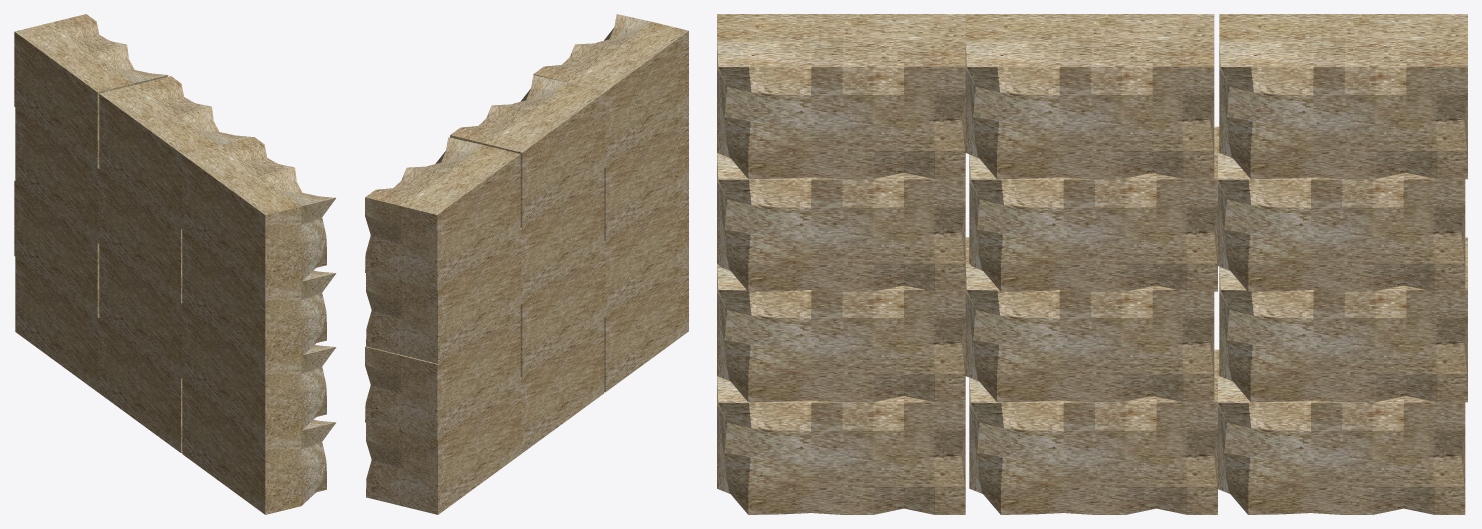
File: Bricks.fbx
The picture shows the model from 3 angles, left to right: view 1: azimuth 30°, elevation 25°; view 2: azimuth 150°, elevation 25°; view 3: azimuth 270°, elevation 25°; orthographic projection. The views are drawn at different scales.
Visible parts, largest first — view 1: Cube.008, Cube.007, Cube.009, Cube.001, Cube.003, Cube.010, Cube.004, Cube, Cube.011, Cube.005, Cube.002, Cube.006; view 2: Cube.007, Cube.009, Cube.004, Cube.005, Cube.008, Cube.006, Cube.002, Cube.001, Cube, Cube.010, Cube.003, Cube.011; view 3: Cube.009, Cube.008, Cube.007, Cube, Cube.005, Cube.006, Cube.011, Cube.001, Cube.002, Cube.010, Cube.004, Cube.003.
Part boxes in pixels (x1=…): Cube.008: x1=182, y1=137, x2=335, y2=290; Cube.007: x1=14, y1=14, x2=168, y2=167; Cube.009: x1=99, y1=76, x2=252, y2=229; Cube.001: x1=182, y1=379, x2=336, y2=514; Cube.003: x1=182, y1=304, x2=336, y2=439; Cube.010: x1=182, y1=230, x2=336, y2=365; Cube.004: x1=14, y1=180, x2=99, y2=316; Cube: x1=98, y1=317, x2=182, y2=452; Cube.011: x1=98, y1=168, x2=182, y2=303; Cube.005: x1=15, y1=257, x2=99, y2=391; Cube.002: x1=99, y1=243, x2=182, y2=378; Cube.006: x1=15, y1=108, x2=99, y2=242; Cube.007: x1=365, y1=137, x2=520, y2=290; Cube.009: x1=450, y1=75, x2=605, y2=227; Cube.004: x1=365, y1=304, x2=520, y2=439; Cube.005: x1=366, y1=378, x2=521, y2=514; Cube.008: x1=533, y1=14, x2=688, y2=166; Cube.006: x1=366, y1=229, x2=521, y2=364; Cube.002: x1=520, y1=241, x2=605, y2=377; Cube.001: x1=604, y1=256, x2=688, y2=392; Cube: x1=521, y1=318, x2=604, y2=453; Cube.010: x1=604, y1=106, x2=688, y2=242; Cube.003: x1=605, y1=182, x2=688, y2=316; Cube.011: x1=520, y1=168, x2=604, y2=304; Cube.009: x1=965, y1=14, x2=1214, y2=179; Cube.008: x1=717, y1=14, x2=965, y2=179; Cube.007: x1=1219, y1=14, x2=1467, y2=179; Cube: x1=969, y1=349, x2=1217, y2=514; Cube.005: x1=1216, y1=349, x2=1465, y2=514; Cube.006: x1=1216, y1=126, x2=1465, y2=291; Cube.011: x1=969, y1=126, x2=1217, y2=291; Cube.001: x1=717, y1=376, x2=965, y2=514; Cube.002: x1=965, y1=237, x2=1214, y2=402; Cube.010: x1=717, y1=153, x2=965, y2=291; Cube.004: x1=1219, y1=237, x2=1467, y2=402; Cube.003: x1=717, y1=264, x2=965, y2=402.
Size of the model in its own units: 200 by 796 by 1208.
